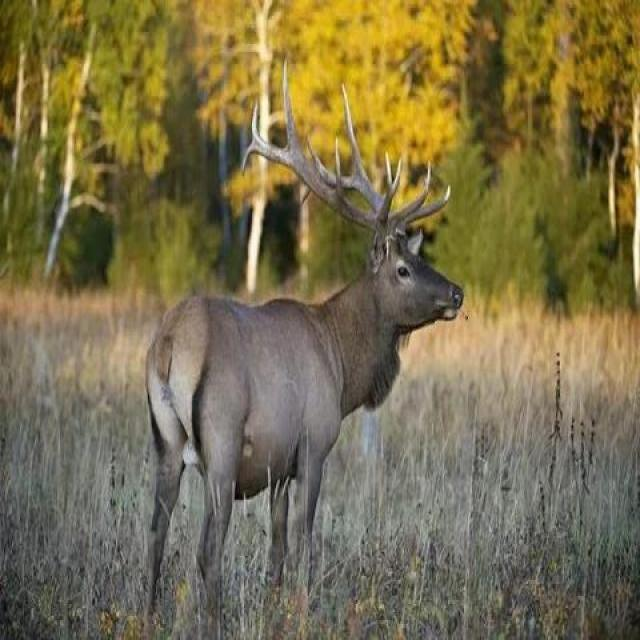deer: (145, 60, 426, 593)
